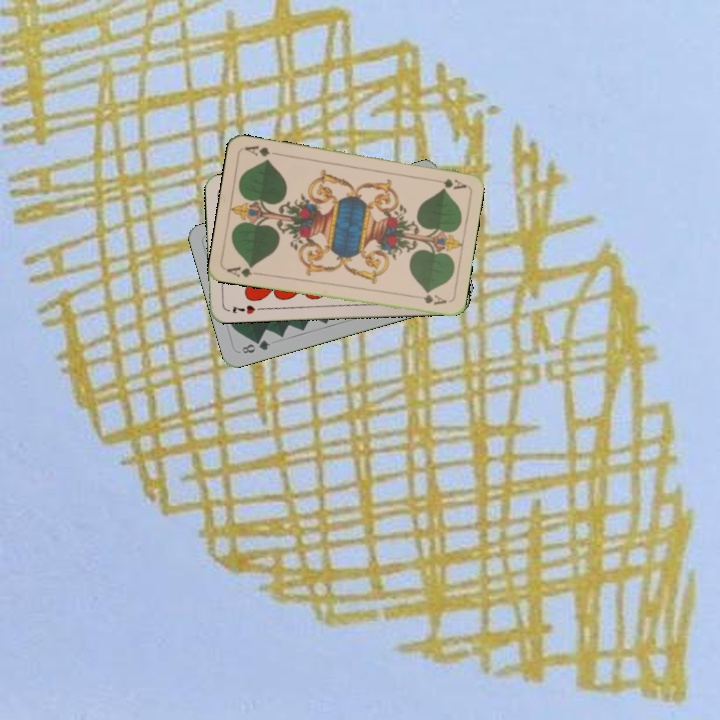G8: (238, 336, 273, 356)
GA: (223, 261, 263, 280), (428, 174, 468, 192)
H7: (229, 301, 257, 317)
